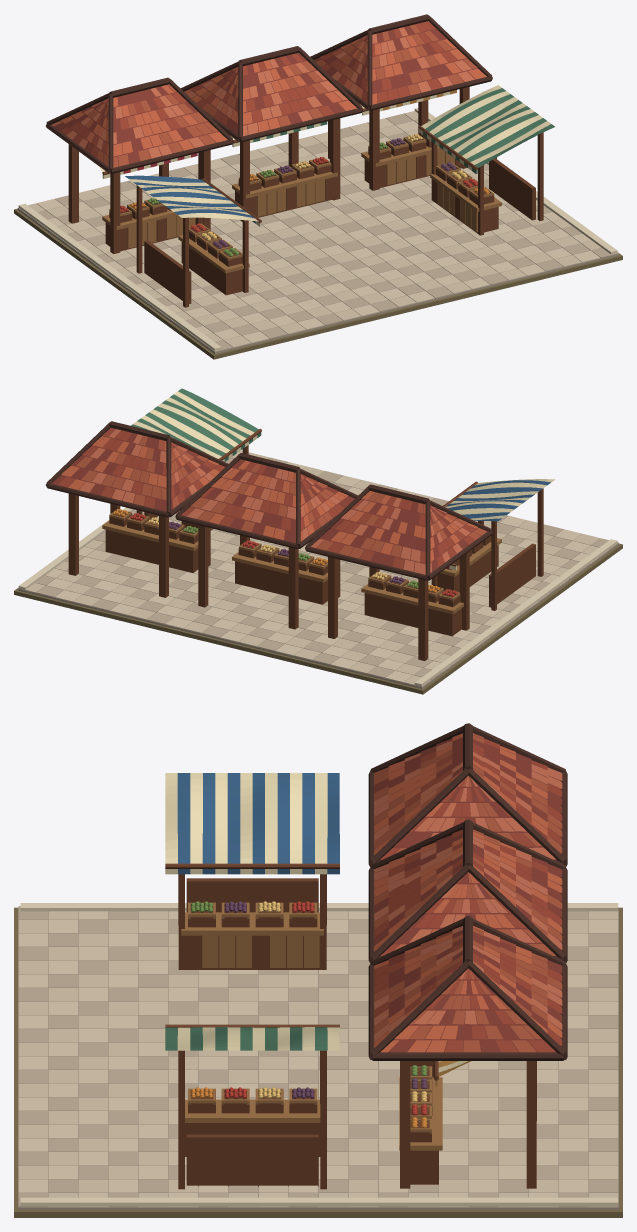
Rendered from market-nivel-3.glb.
3 renders of one model, top to bottom at view 1: azimuth 30°, elevation 25°; view 2: azimuth 150°, elevation 25°; view 3: azimuth 270°, elevation 25°, orthographic. The views are drawn at different scales.
Parts seen in each view (by area): view 1: Mercado 03 #70432c, Mercado 03 #d3c3a9, Mercado 03 #dac9af, Mercado 03 #c1af99, Mercado 03 #853e33, Mercado 03 #9f7145, Mercado 03 #4c3028, Mercado 03 #eadbb2, Mercado 03 #bf6243, Mercado 03 #a8563c, Mercado 03 #c06b4f, Mercado 03 #9b4735 (+5 smaller); view 2: Mercado 03 #70432c, Mercado 03 #dac9af, Mercado 03 #d3c3a9, Mercado 03 #c1af99, Mercado 03 #853e33, Mercado 03 #4c3028, Mercado 03 #9b4735, Mercado 03 #a8563c, Mercado 03 #bf6243, Mercado 03 #c06b4f, Mercado 03 #eadbb2, Mercado 03 #7f704e (+5 smaller); view 3: Mercado 03 #dac9af, Mercado 03 #c1af99, Mercado 03 #d3c3a9, Mercado 03 #70432c, Mercado 03 #4c3028, Mercado 03 #853e33, Mercado 03 #eadbb2, Mercado 03 #a8563c, Mercado 03 #9f7145, Mercado 03 #9b4735, Mercado 03 #bf6243, Mercado 03 #c06b4f (+5 smaller).
Part boxes in pixels (x1,y1,x2,y2): Mercado 03 #70432c: (68,87,543,307); Mercado 03 #d3c3a9: (18,111,601,347); Mercado 03 #dac9af: (36,118,600,343); Mercado 03 #c1af99: (28,113,618,352); Mercado 03 #853e33: (54,22,477,166); Mercado 03 #9f7145: (102,134,501,273); Mercado 03 #4c3028: (46,14,492,173); Mercado 03 #eadbb2: (99,85,550,226); Mercado 03 #bf6243: (60,35,486,156); Mercado 03 #a8563c: (84,24,477,167); Mercado 03 #c06b4f: (51,27,474,158); Mercado 03 #9b4735: (60,21,457,157); Mercado 03 #70432c: (68,428,543,660); Mercado 03 #dac9af: (45,450,598,682); Mercado 03 #d3c3a9: (18,453,608,687); Mercado 03 #c1af99: (35,457,618,679); Mercado 03 #853e33: (51,429,481,571); Mercado 03 #4c3028: (46,421,492,580); Mercado 03 #9b4735: (57,428,475,569); Mercado 03 #a8563c: (76,435,487,558); Mercado 03 #bf6243: (61,436,477,561); Mercado 03 #c06b4f: (79,429,470,574); Mercado 03 #eadbb2: (133,391,555,570); Mercado 03 #7f704e: (14,543,622,694); Mercado 03 #dac9af: (18,911,618,1207); Mercado 03 #c1af99: (18,906,618,1207); Mercado 03 #d3c3a9: (18,911,618,1207); Mercado 03 #70432c: (165,863,536,1189); Mercado 03 #4c3028: (368,723,567,1060); Mercado 03 #853e33: (374,735,562,1052); Mercado 03 #eadbb2: (165,773,468,1072); Mercado 03 #a8563c: (374,733,562,1052); Mercado 03 #9f7145: (181,902,442,1150); Mercado 03 #9b4735: (374,738,562,1052); Mercado 03 #bf6243: (374,733,562,1052); Mercado 03 #c06b4f: (374,741,562,1041).
Size of the model in its own units: 12.79 by 4.41 by 10.82.
